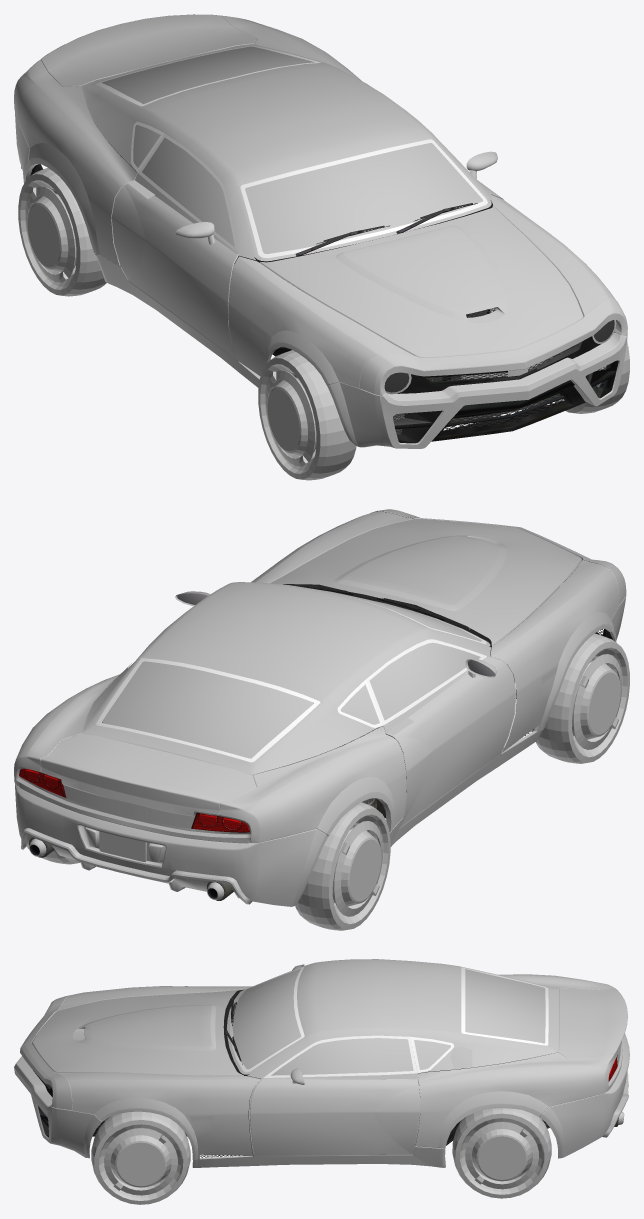
File: concept car.FBX
3 renders of one model, top to bottom at view 1: azimuth 30°, elevation 25°; view 2: azimuth 150°, elevation 25°; view 3: azimuth 270°, elevation 25°, orthographic. The views are drawn at different scales.
Visible parts, largest first — view 1: Car_Mesh_77_F1_49_51_Submesh_52, tire 003, tire 004, tire 002; view 2: Car_Mesh_77_F1_49_51_Submesh_52, tire 004, tire 003; view 3: Car_Mesh_77_F1_49_51_Submesh_52, tire 002, tire 1.
Boxes of the visible parts, <box> form: Car_Mesh_77_F1_49_51_Submesh_52: <box>14,14,627,448</box>; tire 003: <box>258,350,356,480</box>; tire 004: <box>18,168,116,296</box>; tire 002: <box>554,341,629,413</box>; Car_Mesh_77_F1_49_51_Submesh_52: <box>14,509,626,906</box>; tire 004: <box>295,802,390,930</box>; tire 003: <box>532,633,629,763</box>; Car_Mesh_77_F1_49_51_Submesh_52: <box>14,959,629,1167</box>; tire 002: <box>91,1111,190,1204</box>; tire 1: <box>452,1108,551,1198</box>.
Size of the model in its own units: 2.17 by 1.4 by 4.78.
